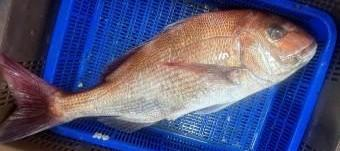fish: (0, 9, 316, 141)
